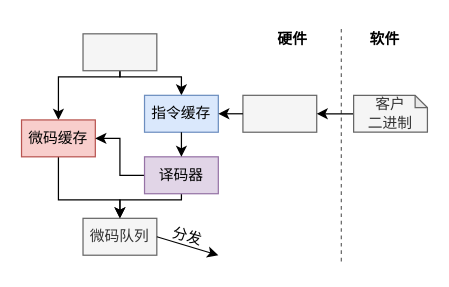
Image size: 449x287. Some labels were removed from this diagram. The box of each missing label's shape, as (x1, y1, x2, y2) in pixels:
内存层次: (242, 94, 317, 132)
分支 预测器: (82, 33, 157, 71)
